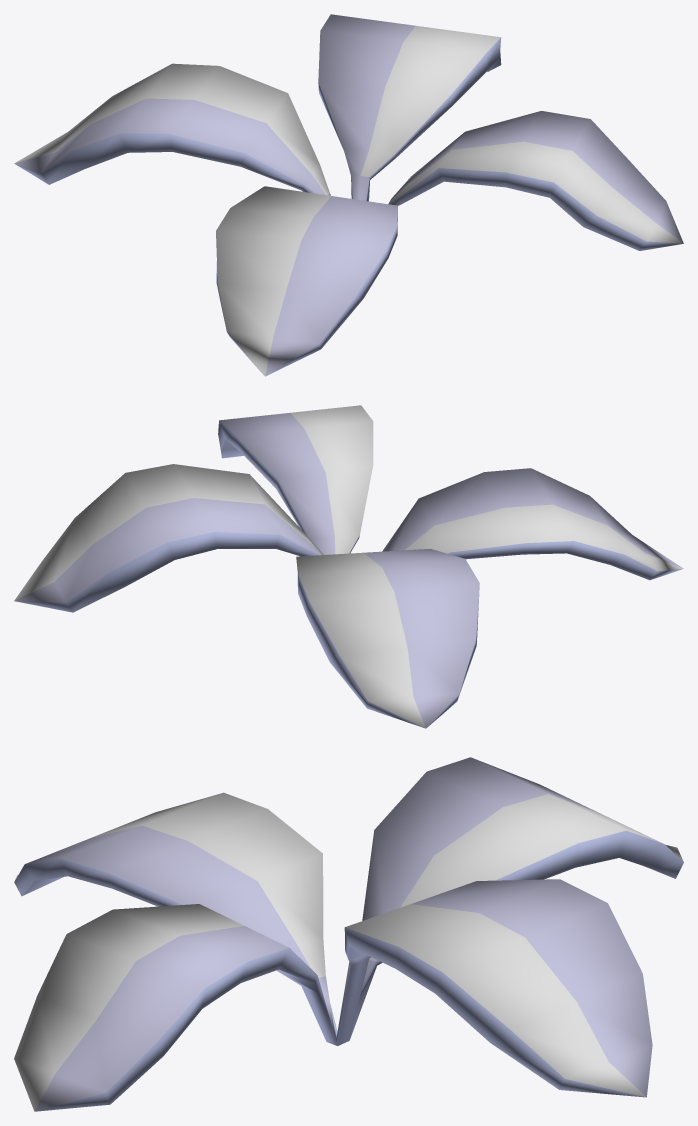
File: Prop_Plant_04.fbx
3 renders of one model, top to bottom at view 1: azimuth 30°, elevation 25°; view 2: azimuth 150°, elevation 25°; view 3: azimuth 270°, elevation 25°, orthographic. The views are drawn at different scales.
Parts seen in each view (by area): view 1: Model_Plant_04; view 2: Model_Plant_04; view 3: Model_Plant_04.
Part boxes in pixels (box(x1,y1,x2,y2)): Model_Plant_04: box(14, 14, 683, 376); Model_Plant_04: box(14, 405, 683, 728); Model_Plant_04: box(14, 757, 683, 1111).
Bounding box in the file's own units: 128 × 41.17 × 130.
